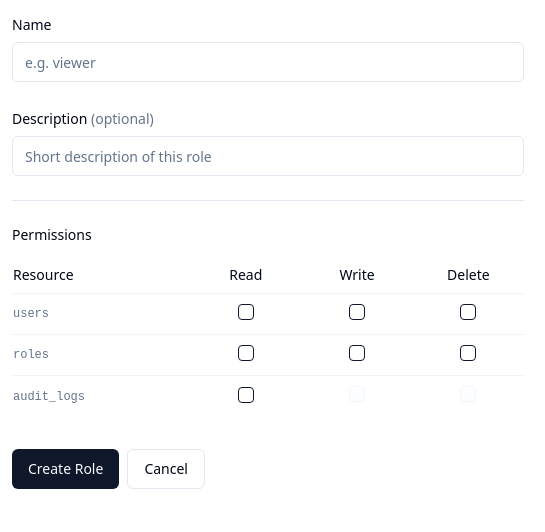
Scenario: RoleForm › validation › clears the name error when the user starts typing
The image size is (545, 532).
Click the button "Create Role" at (66, 469), box [12,449,119,489]
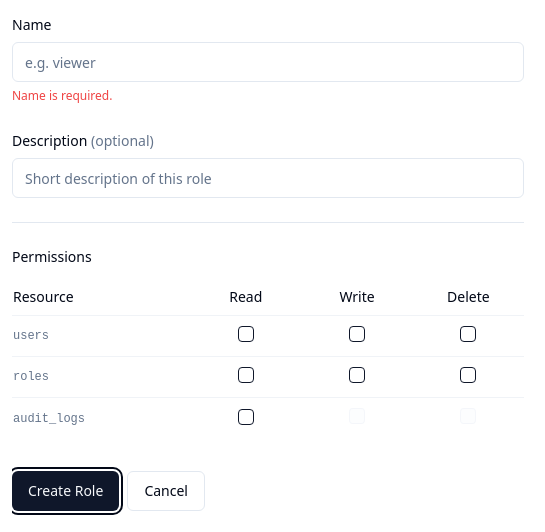
Check: the text "Name is required." is shown, box [12,87,112,104]
Type "v" into the field labelled "Name" at (268, 62), box [12,42,524,82]
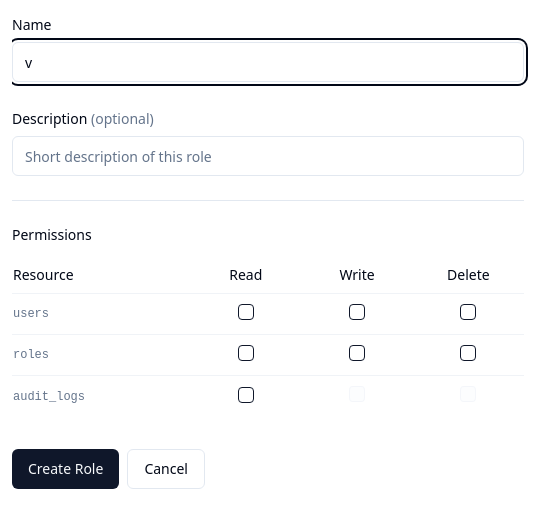
Check: the text "Name is required" is gone
